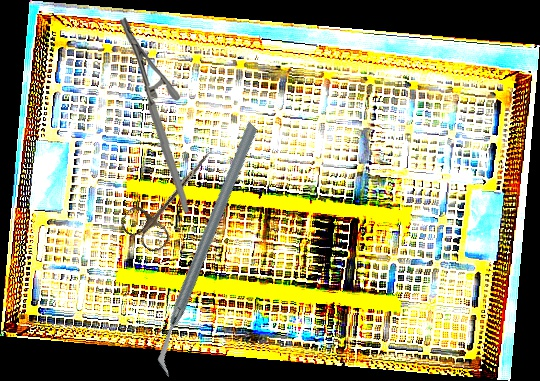Chopper: (80, 121, 337, 377)
Iris Scissors: (117, 135, 227, 257)
Needle Holder: (115, 16, 193, 214)
